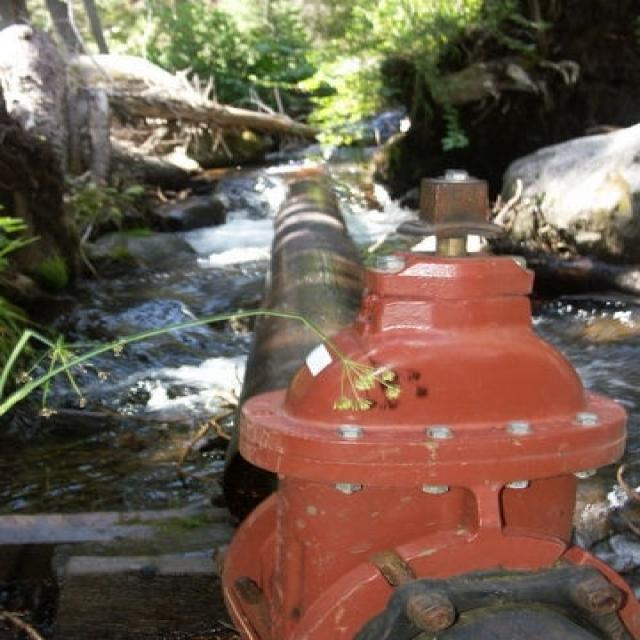fire_hydrant: (215, 165, 637, 639)
